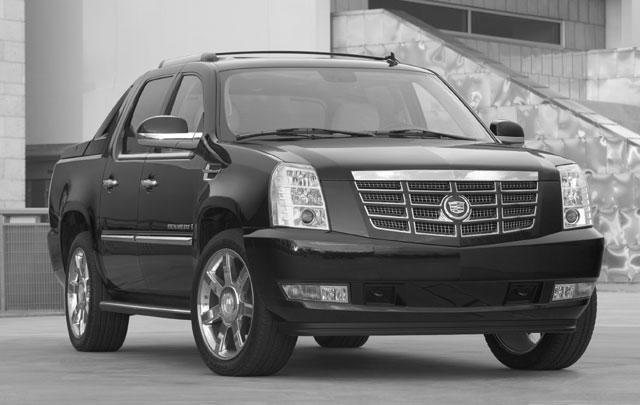car: (26, 36, 632, 405)
